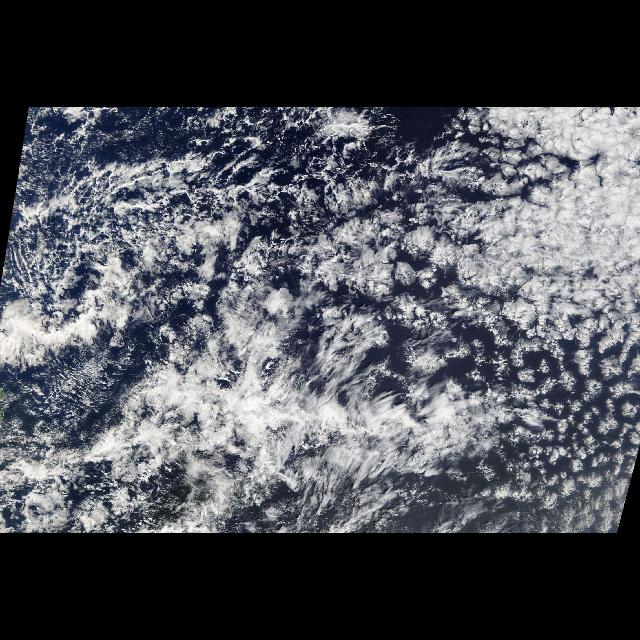Fish: (14, 168, 302, 376)
